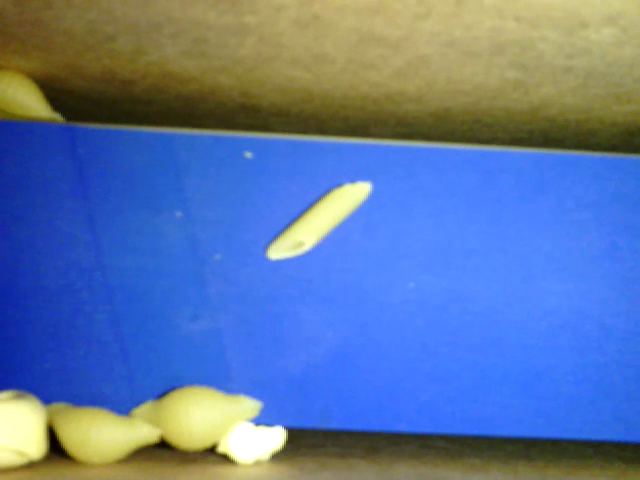penne: (264, 178, 373, 263)
shell: (128, 387, 267, 454), (44, 400, 166, 465), (1, 72, 66, 127)
tortellini: (2, 390, 46, 471)
